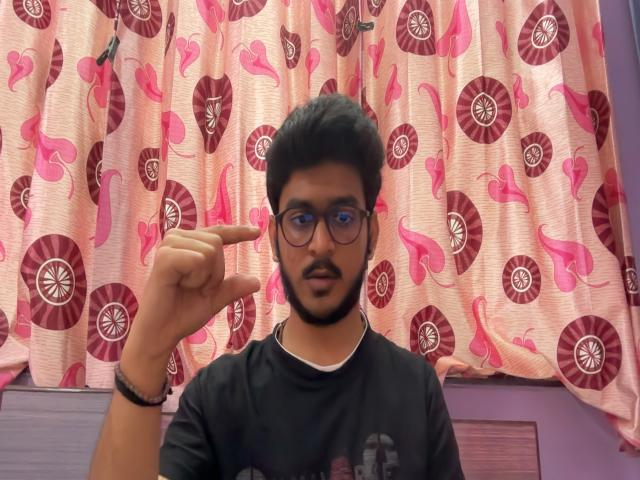No: (120, 207, 266, 377)
